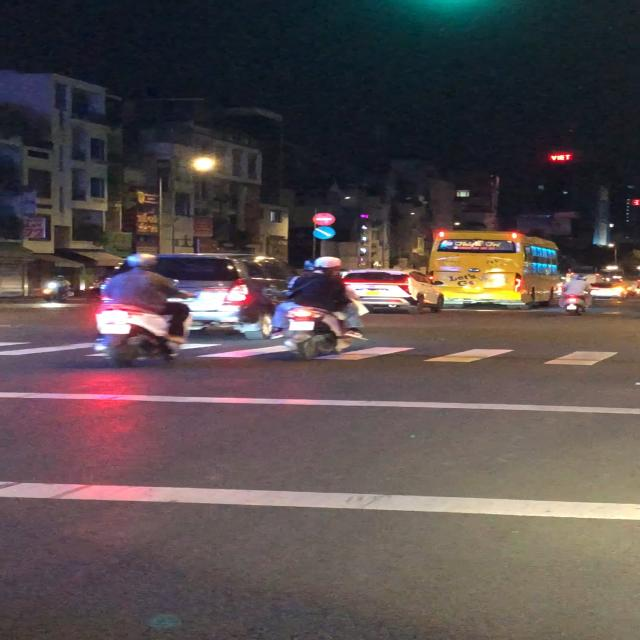Bien bao cam di nguoc chieu: (311, 212, 335, 226)
Bien bao huong phai di vong chuong ngai vat: (313, 225, 336, 240)
